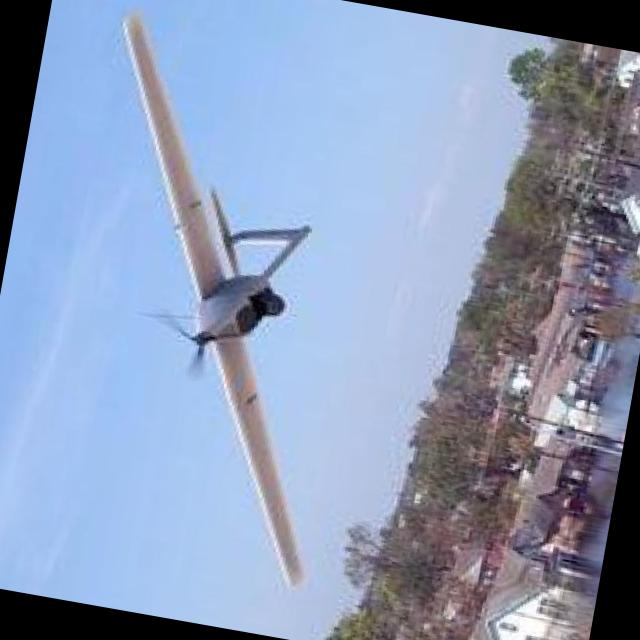UAV: (105, 110, 359, 586)
